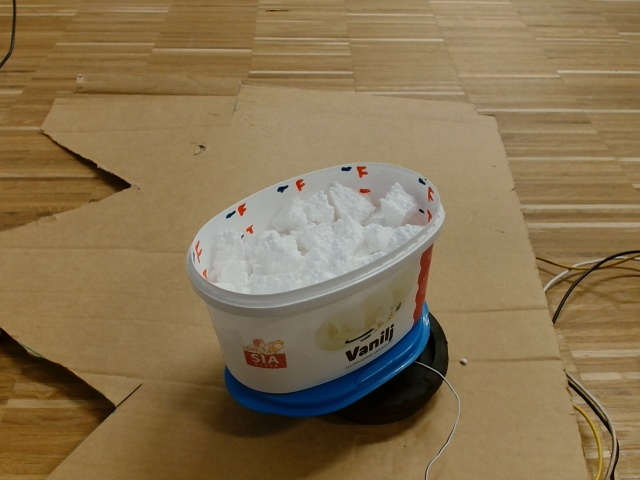Big_threequarter: (188, 159, 447, 312)
